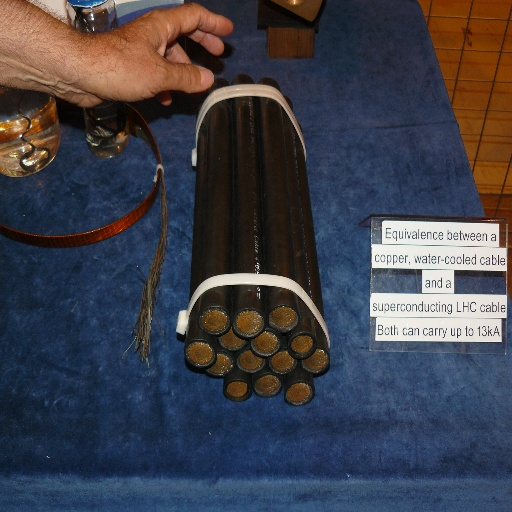hand: (39, 2, 237, 110)
